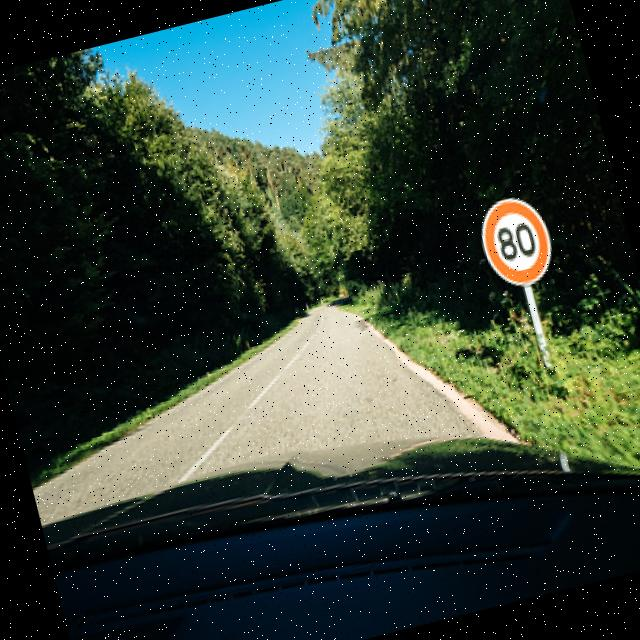speed_limit_80: (462, 179, 568, 302)
